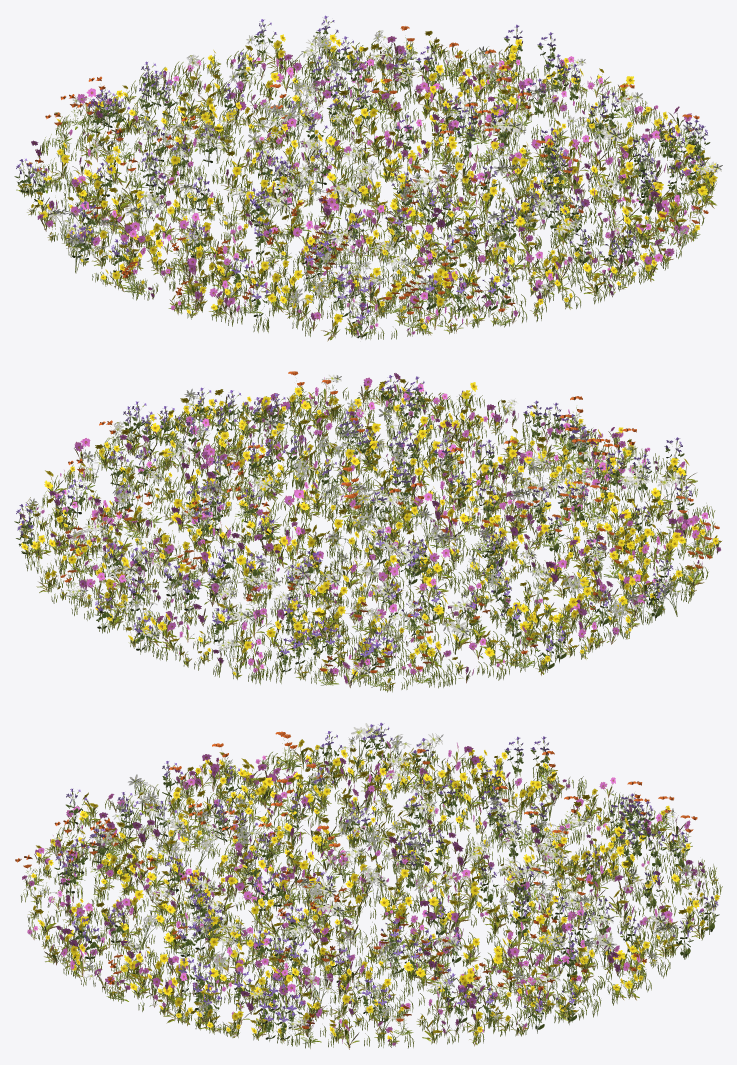
Rendered from Orbitflower_vv.glb.
The picture shows the model from 3 angles, top to bottom: view 1: azimuth 30°, elevation 25°; view 2: azimuth 150°, elevation 25°; view 3: azimuth 270°, elevation 25°; orthographic projection.
Parts seen in each view (by area): view 1: Flower_AR; view 2: Flower_AR; view 3: Flower_AR.
Part boxes in pixels (x1,y1,x2,y2): Flower_AR: [14, 15, 722, 341]; Flower_AR: [14, 371, 721, 692]; Flower_AR: [15, 722, 722, 1049].
Size of the model in its own units: 7.09 by 0.4441 by 6.99.
Materials: 7 (7 with a texture image).
